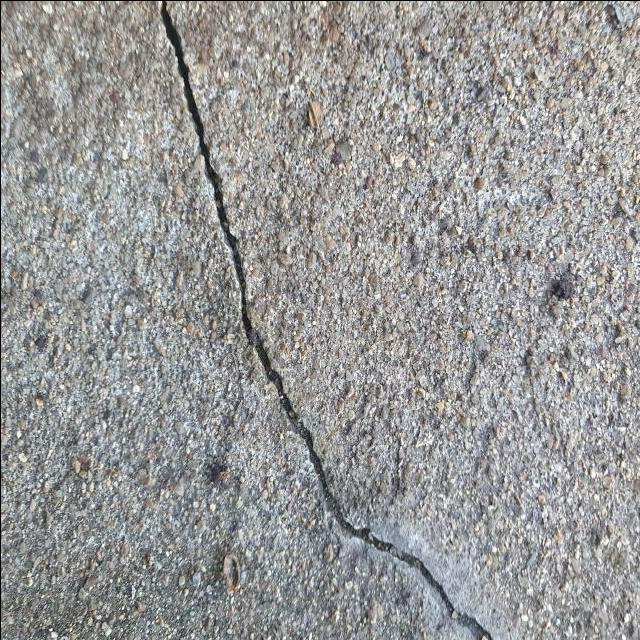SurfaceCrack: (28, 3, 626, 640)
